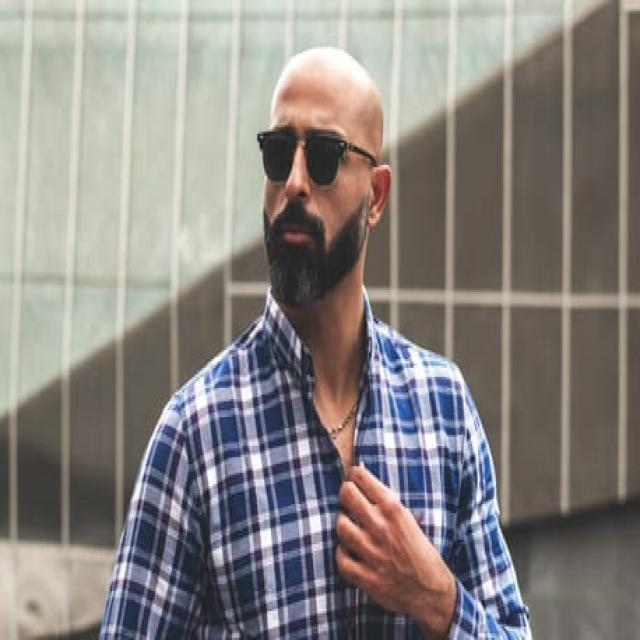beard: (265, 198, 369, 308)
